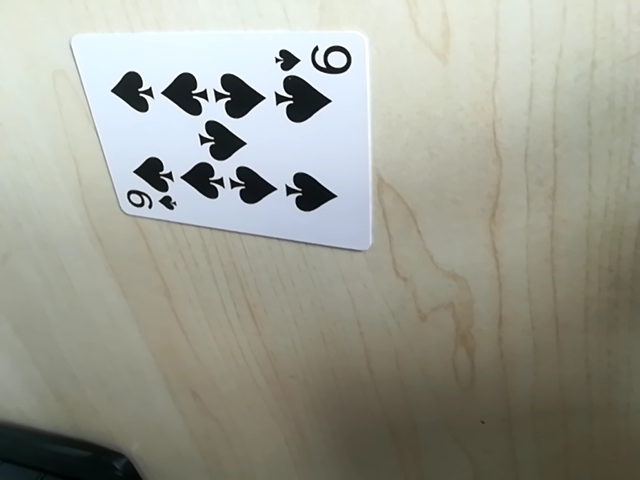ht 9: (276, 40, 358, 78), (118, 187, 176, 220)
